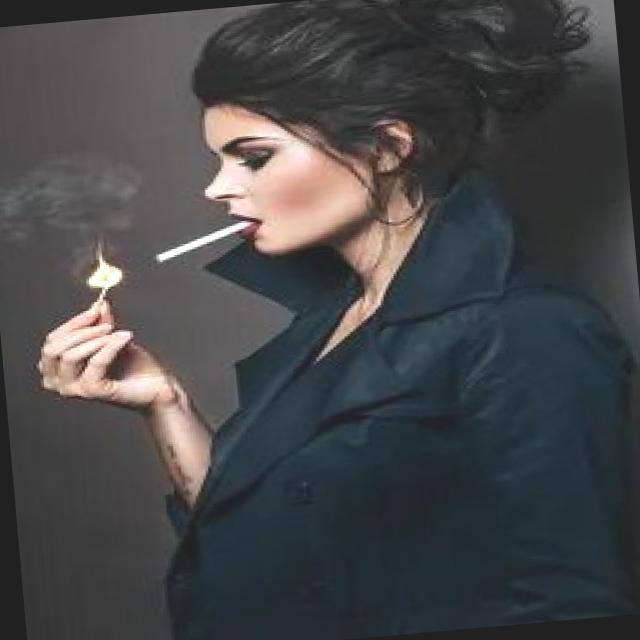cigarette: (148, 214, 268, 264)
